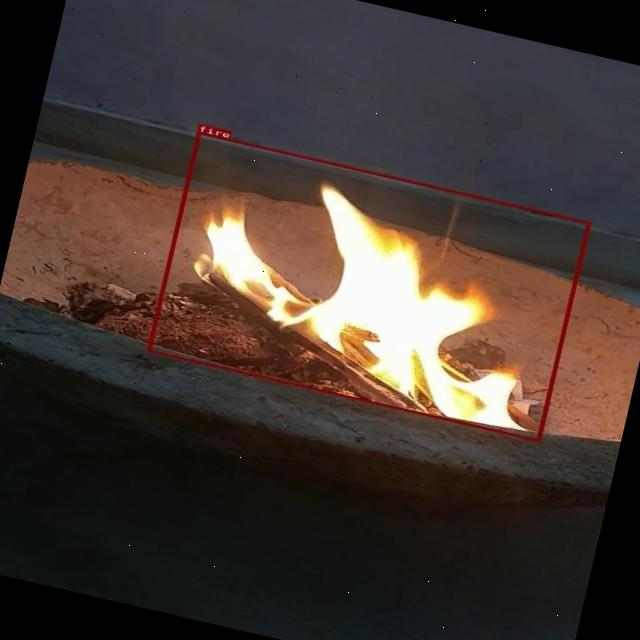fire: (146, 130, 590, 442)
